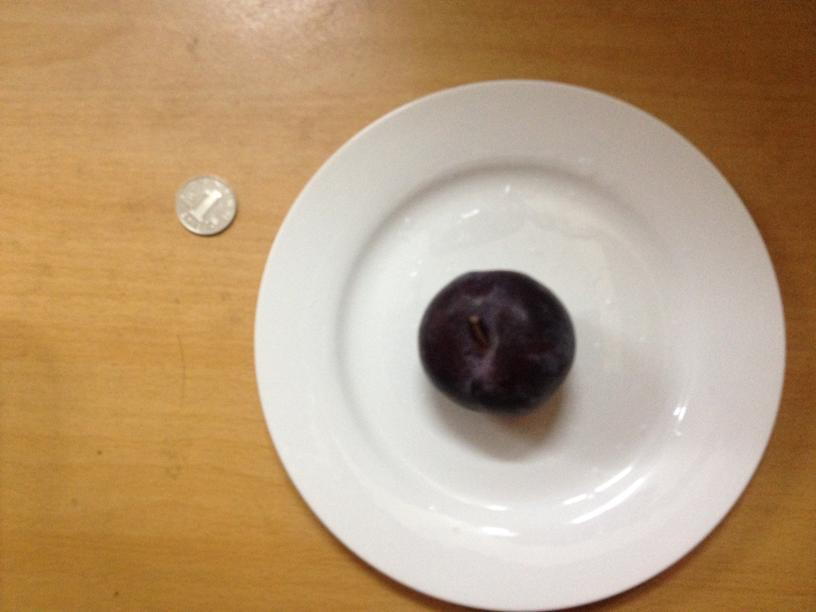coin: (171, 178, 239, 233)
plum: (417, 270, 577, 409)
